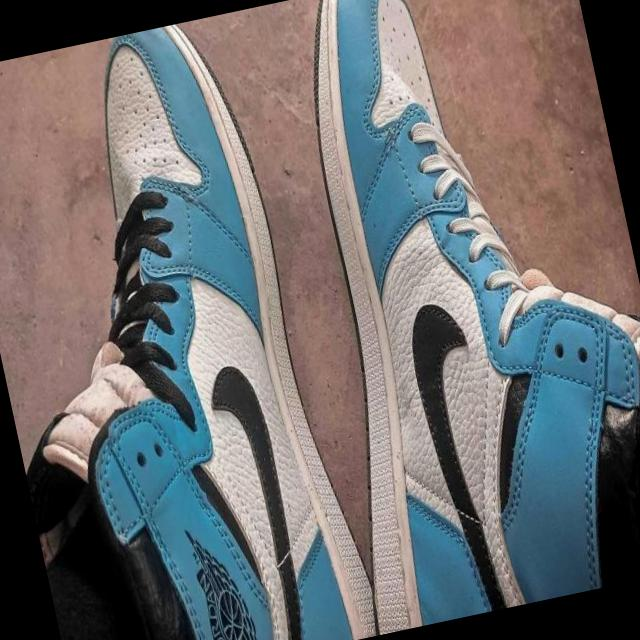nike_fake_jordan: (242, 0, 640, 635), (0, 8, 381, 640)
